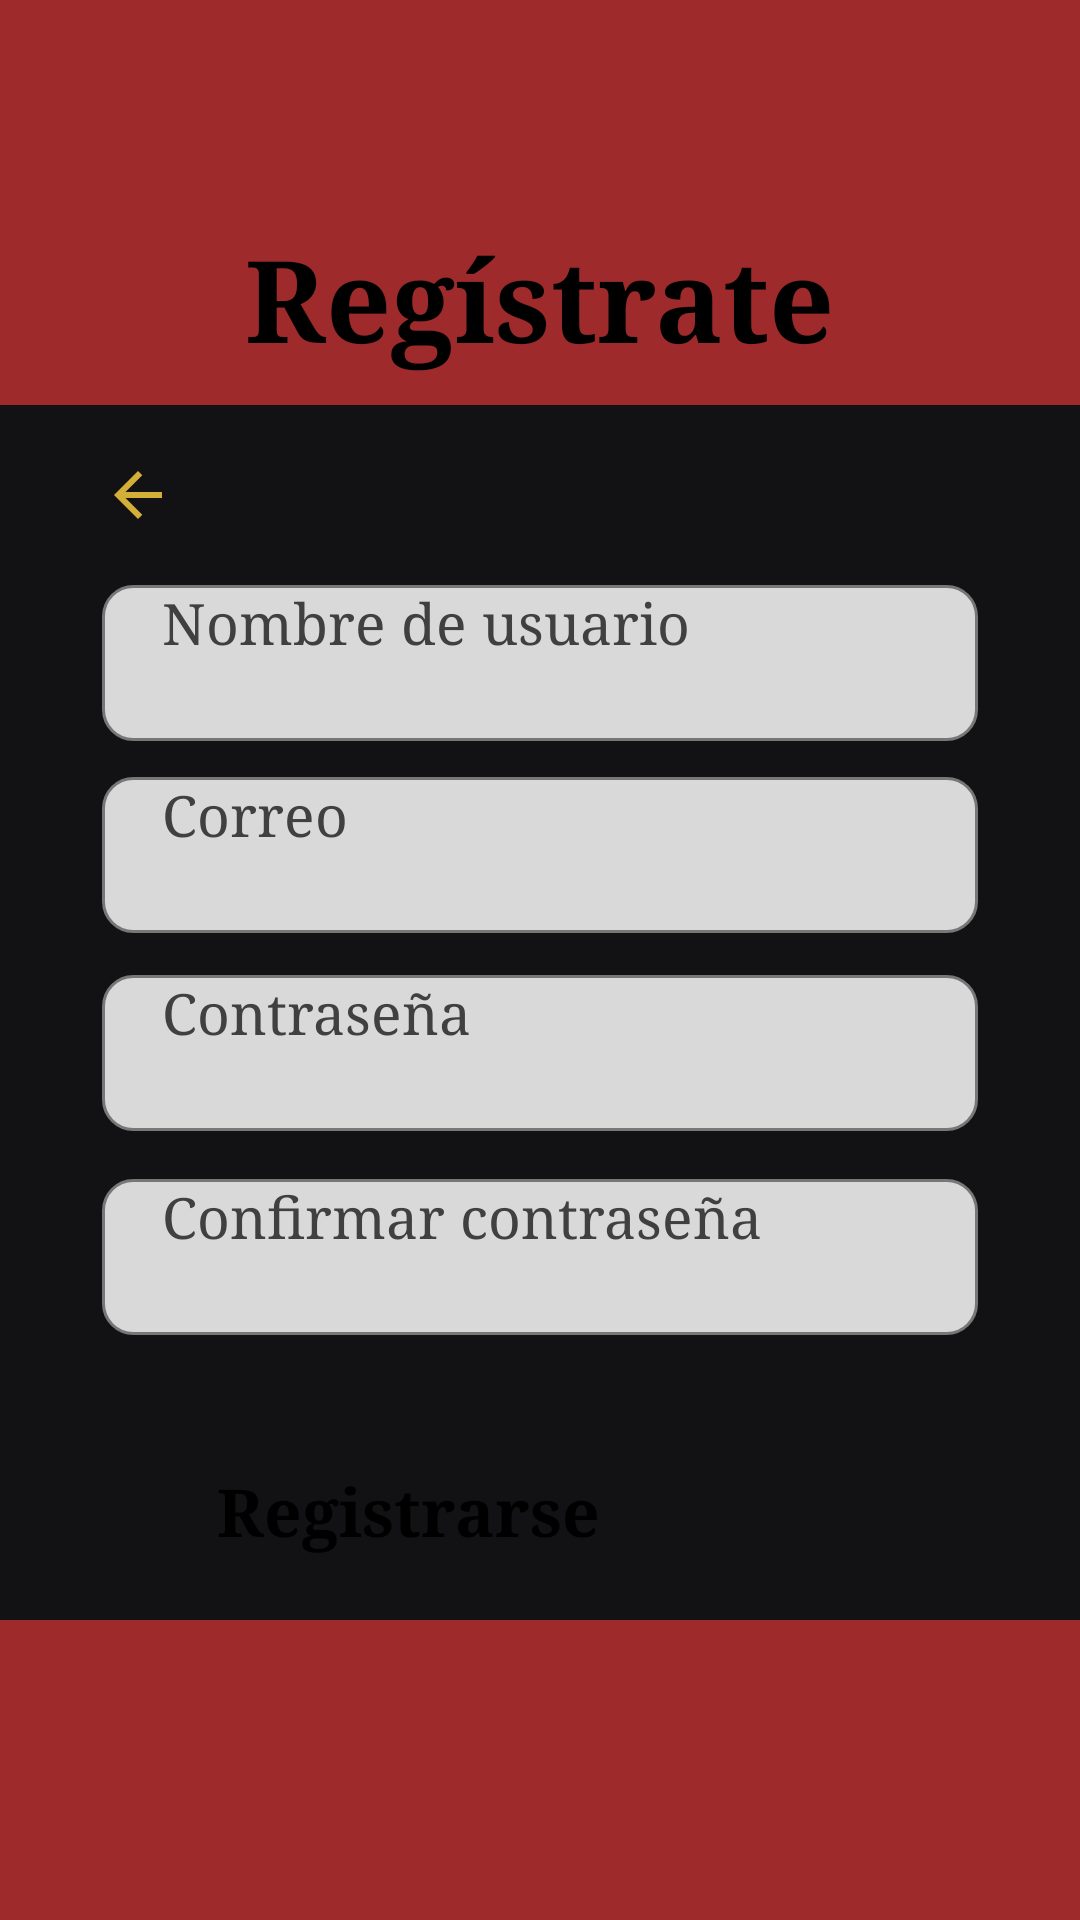

Named icons in this screenshot (1080*1920) and their centers, (x,y):
Volver: (138,495)
